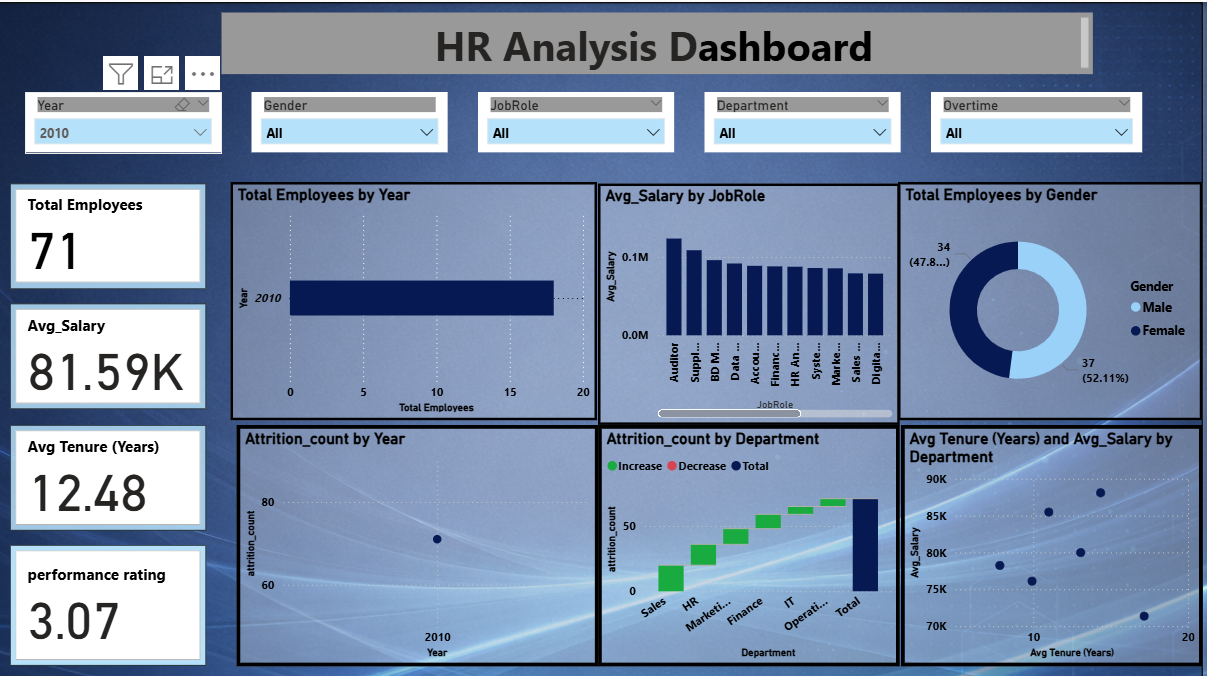

The dashboard page shown, as its layout file describes it:
{"tool":"powerbi","page":{"name":"Page 1","canvas":[1280,720],"ordinal":0},"visuals":[{"type":"cardVisual","fields":{"Data":["hr_analytics_dataset_1000_rows.Total Employees"]},"box":[16,192,208,112],"z":0},{"type":"cardVisual","fields":{"Data":["hr_analytics_dataset_1000_rows.Avg_Salary"]},"box":[16,320,208,112],"z":1000},{"type":"cardVisual","fields":{"Data":["hr_analytics_dataset_1000_rows.Avg Tenure (Years)"]},"box":[16,448,208,112],"z":2000},{"type":"cardVisual","fields":{"Data":["hr_analytics_dataset_1000_rows.performance rating"]},"box":[16,576,208,128],"z":3000},{"type":"textbox","box":[240.2,11.1,924.1,65.2],"z":4000},{"type":"slicer","fields":{"Values":["hr_analytics_dataset_1000_rows.Gender"]},"box":[272,96,208,64],"z":5000},{"type":"slicer","fields":{"Values":["hr_analytics_dataset_1000_rows.Department"]},"box":[752,96,208,64],"z":6000},{"type":"slicer","fields":{"Values":["hr_analytics_dataset_1000_rows.JobRole"]},"box":[512,96,208,64],"z":7000},{"type":"barChart","fields":{"Category":["hr_analytics_dataset_1000_rows.HiringDate.Variation.Date Hierarchy.Year"],"Y":["hr_analytics_dataset_1000_rows.Total Employees"]},"box":[249.9,191.2,388.8,252.4],"z":8000},{"type":"clusteredColumnChart","fields":{"Category":["hr_analytics_dataset_1000_rows.JobRole"],"Y":["hr_analytics_dataset_1000_rows.Avg_Salary"]},"box":[640,192,320,256],"z":9000},{"type":"donutChart","fields":{"Category":["hr_analytics_dataset_1000_rows.Gender"],"Y":["hr_analytics_dataset_1000_rows.Total Employees"]},"box":[957.5,191.2,322.5,252.4],"z":10000},{"type":"scatterChart","fields":{"X":["hr_analytics_dataset_1000_rows.Avg Tenure (Years)"],"Y":["hr_analytics_dataset_1000_rows.Avg_Salary"],"Category":["hr_analytics_dataset_1000_rows.Department"]},"box":[960,448,320,256],"z":11000},{"type":"waterfallChart","title":"Attrition_count by Department","fields":{"Category":["hr_analytics_dataset_1000_rows.Department"],"Y":["hr_analytics_dataset_1000_rows.attrition_count"]},"box":[640,448,320,256],"z":12000},{"type":"areaChart","title":"Attrition_count by Year","fields":{"Category":["hr_analytics_dataset_1000_rows.HiringDate.Variation.Date Hierarchy.Year"],"Y":["hr_analytics_dataset_1000_rows.attrition_count"]},"box":[256,448,384,256],"z":13000},{"type":"slicer","fields":{"Values":["hr_analytics_dataset_1000_rows.Overtime"]},"box":[992,96,224,64],"z":14000},{"type":"slicer","fields":{"Values":["hr_analytics_dataset_1000_rows.HiringDate.Variation.Date Hierarchy.Year"]},"box":[32,96,208,64],"z":15000}]}

Visuals, with their boxes in screenshot pixels (x1, y1, x2, y2), scaled from the page's 1280x720 canvas onto the 1207x676 screenshot:
cardVisual - hr_analytics_dataset_1000_rows.Total Employees: select_region(15, 180, 211, 285)
cardVisual - hr_analytics_dataset_1000_rows.Avg_Salary: select_region(15, 300, 211, 406)
cardVisual - hr_analytics_dataset_1000_rows.Avg Tenure (Years): select_region(15, 421, 211, 526)
cardVisual - hr_analytics_dataset_1000_rows.performance rating: select_region(15, 541, 211, 661)
textbox: select_region(227, 10, 1098, 72)
slicer - hr_analytics_dataset_1000_rows.Gender: select_region(256, 90, 453, 150)
slicer - hr_analytics_dataset_1000_rows.Department: select_region(709, 90, 905, 150)
slicer - hr_analytics_dataset_1000_rows.JobRole: select_region(483, 90, 679, 150)
barChart - hr_analytics_dataset_1000_rows.HiringDate.Variation.Date Hierarchy.Year x hr_analytics_dataset_1000_rows.Total Employees: select_region(236, 180, 602, 416)
clusteredColumnChart - hr_analytics_dataset_1000_rows.JobRole x hr_analytics_dataset_1000_rows.Avg_Salary: select_region(604, 180, 905, 421)
donutChart - hr_analytics_dataset_1000_rows.Gender x hr_analytics_dataset_1000_rows.Total Employees: select_region(903, 180, 1206, 416)
scatterChart - hr_analytics_dataset_1000_rows.Avg Tenure (Years) x hr_analytics_dataset_1000_rows.Avg_Salary: select_region(905, 421, 1206, 661)
"Attrition_count by Department" waterfallChart: select_region(604, 421, 905, 661)
"Attrition_count by Year" areaChart: select_region(241, 421, 604, 661)
slicer - hr_analytics_dataset_1000_rows.Overtime: select_region(935, 90, 1147, 150)
slicer - hr_analytics_dataset_1000_rows.HiringDate.Variation.Date Hierarchy.Year: select_region(30, 90, 226, 150)
